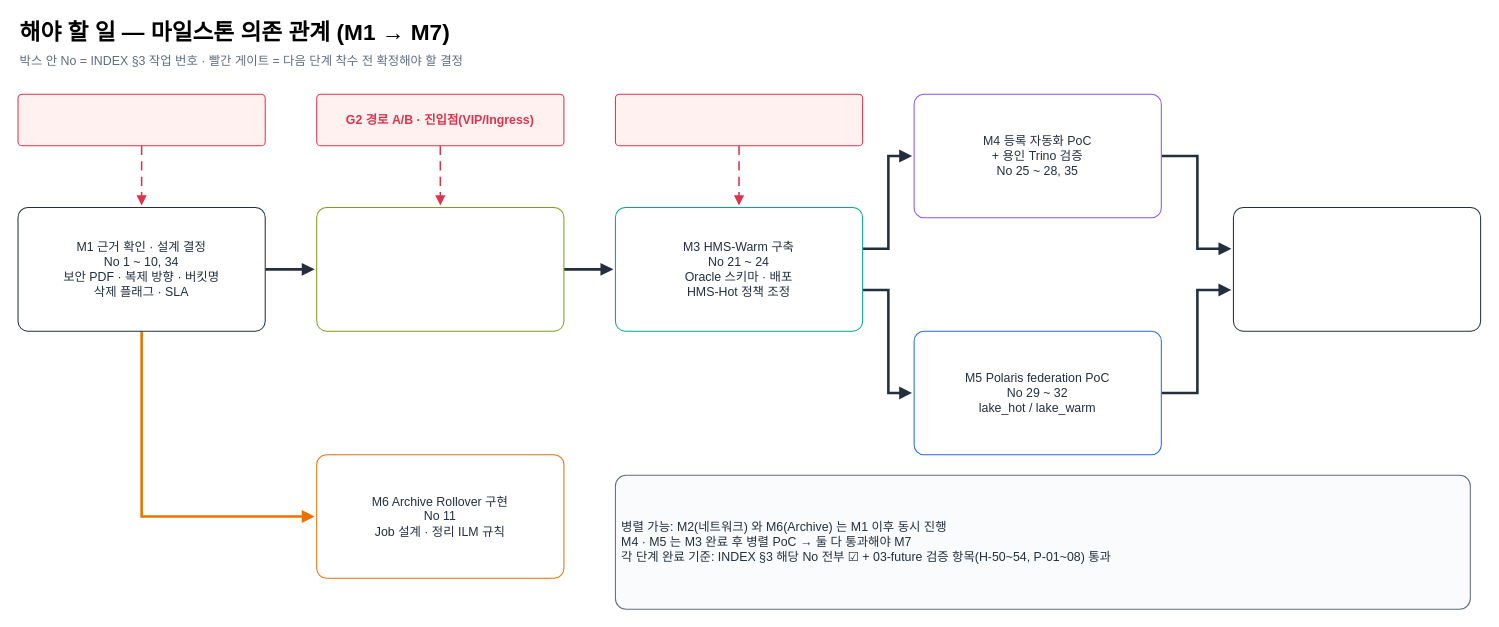
Some shapes in this 1499 by 627 pixel diagram are drawn without their labels. Here are the shapes that lost their labels. From the top down, the centre of each, then its label:
the point at 141,119: G1 복제 방향 · 버킷명 동일 여부
the point at 738,119: G3 Oracle 배치 · HMS 버전
the point at 440,269: M2 네트워크 개통 No 12 ~ 20 SNAT · 방화벽 · DNS VIP/Ingress · TLS
the point at 1356,269: M7 운영 이관 No 33 대상 확대 · 사용자 가이드
